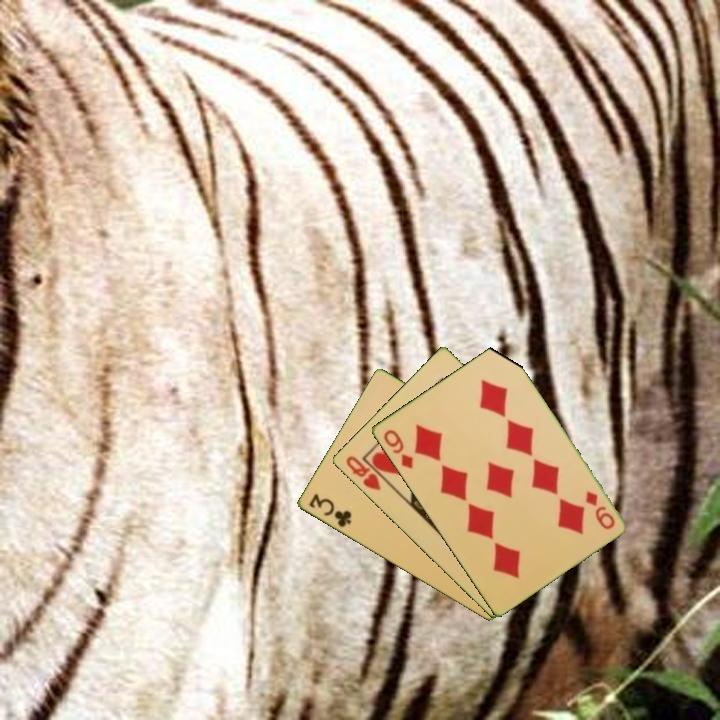3c: (305, 490, 354, 530)
9d: (379, 426, 416, 472), (581, 487, 618, 532)
Qh: (342, 452, 391, 494)
